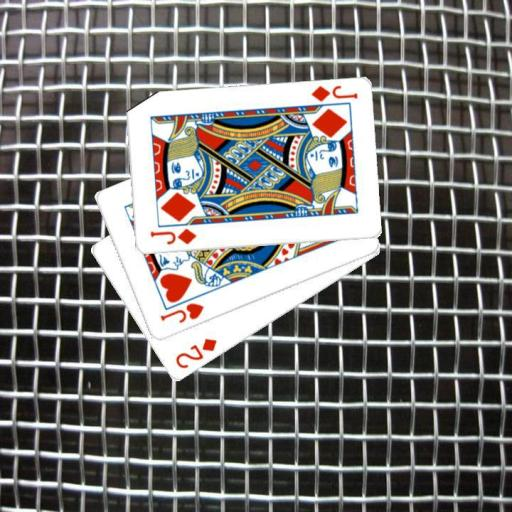2D: (172, 335, 218, 371)
JD: (308, 82, 359, 104), (147, 225, 198, 246)
JH: (157, 300, 206, 325)
